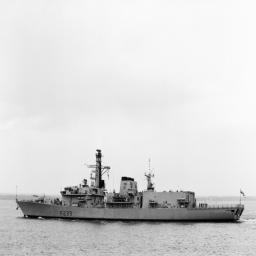Fragata: (15, 147, 246, 222)
